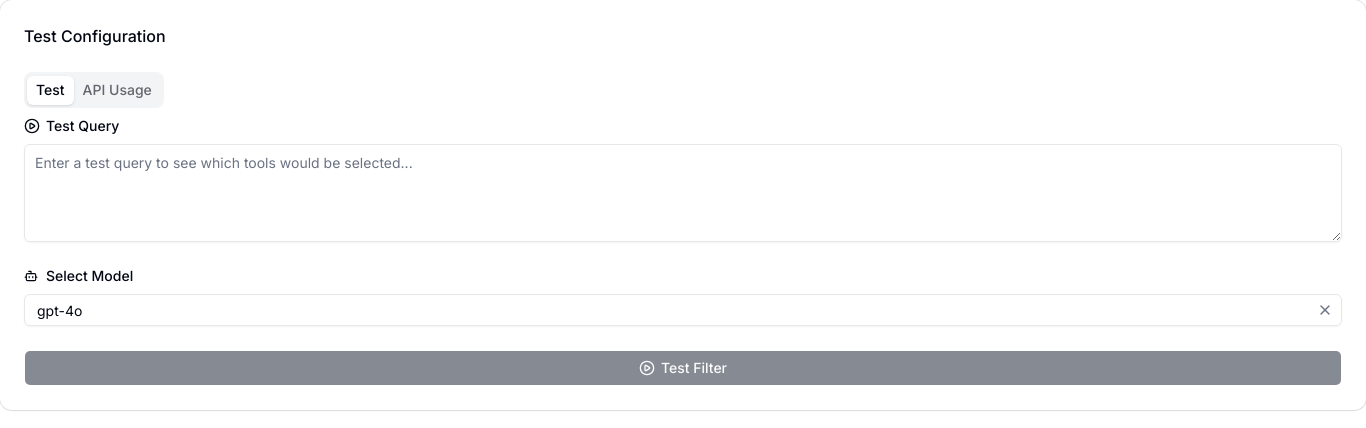
Test: MCPSemanticFilterTestPanel › should show the curl command in the API Usage tab
The width and height of the screenshot is (1366, 428).
Click the tab "API Usage": [117, 90] box x1=74 y1=76 x2=161 y2=104
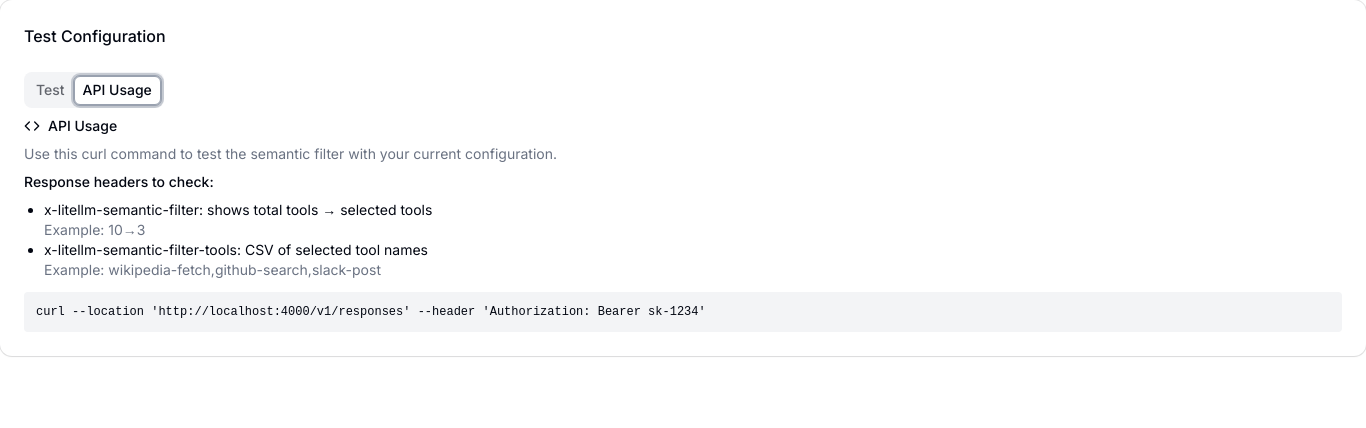
Expected: the text "curl --location 'http://localhost:4000/v1/responses' --header 'Authorization: Bearer sk-1234'" is shown, x1=36 y1=305 x2=706 y2=319
